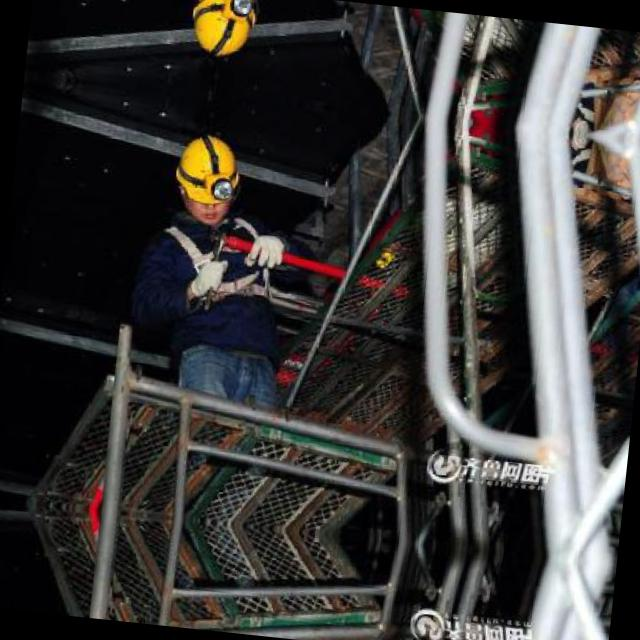helmet: (169, 122, 245, 231), (184, 0, 259, 66)
